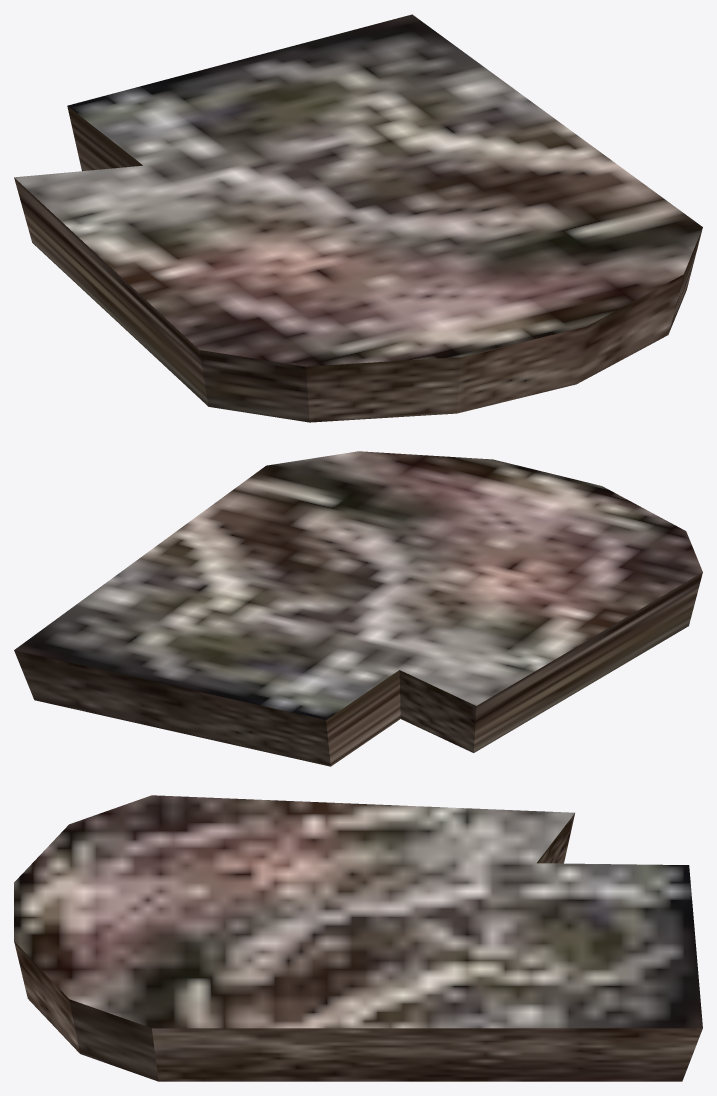
File: ITAT_CRAWLERPLATE.glb
3 views of the same model, one above another, from view 1: azimuth 30°, elevation 25°; view 2: azimuth 150°, elevation 25°; view 3: azimuth 270°, elevation 25° (orthographic). The views are drawn at different scales.
Visible parts, largest first — view 1: ITAT_CRAWLERPLATE; view 2: ITAT_CRAWLERPLATE; view 3: ITAT_CRAWLERPLATE.
Part boxes in pixels (left/top/right/bottom): ITAT_CRAWLERPLATE: left=14, top=14, right=702, bottom=422; ITAT_CRAWLERPLATE: left=14, top=451, right=702, bottom=766; ITAT_CRAWLERPLATE: left=14, top=795, right=702, bottom=1081.
Size of the model in its own units: 0.4 by 0.0475 by 0.5.
1 material, 1 textured.
